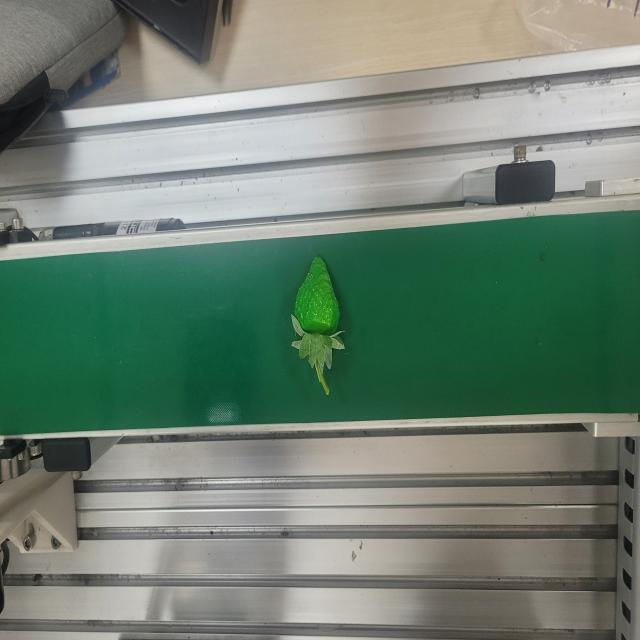Small Unripe Strawberry: (288, 251, 348, 397)
